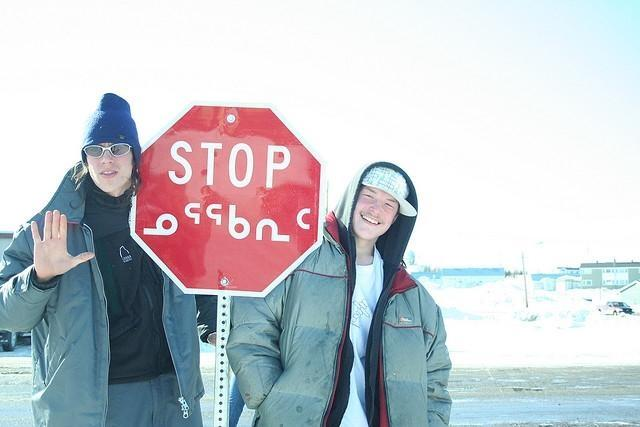car: (596, 300, 632, 316)
